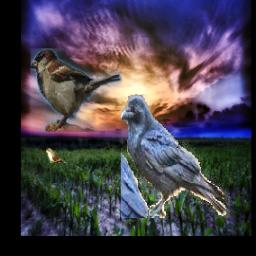Crow: (120, 95, 229, 219)
Cuckoo: (45, 148, 66, 163)
Sparrow: (30, 48, 121, 132)
